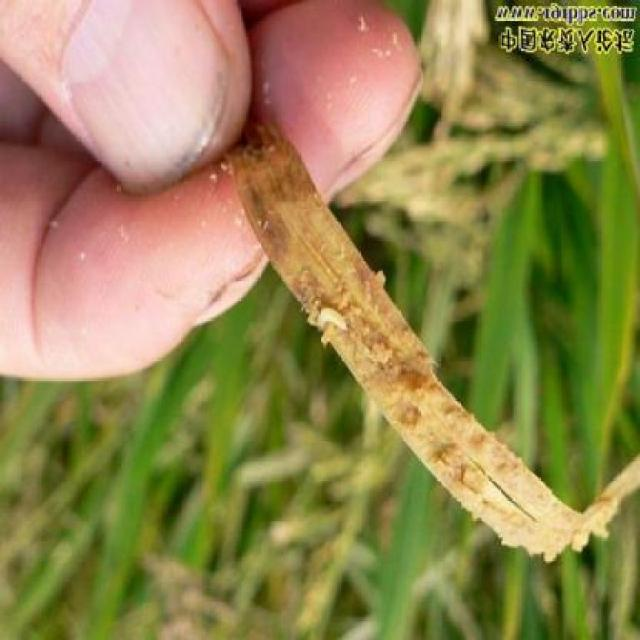whorl-maggot: (312, 298, 356, 342)
